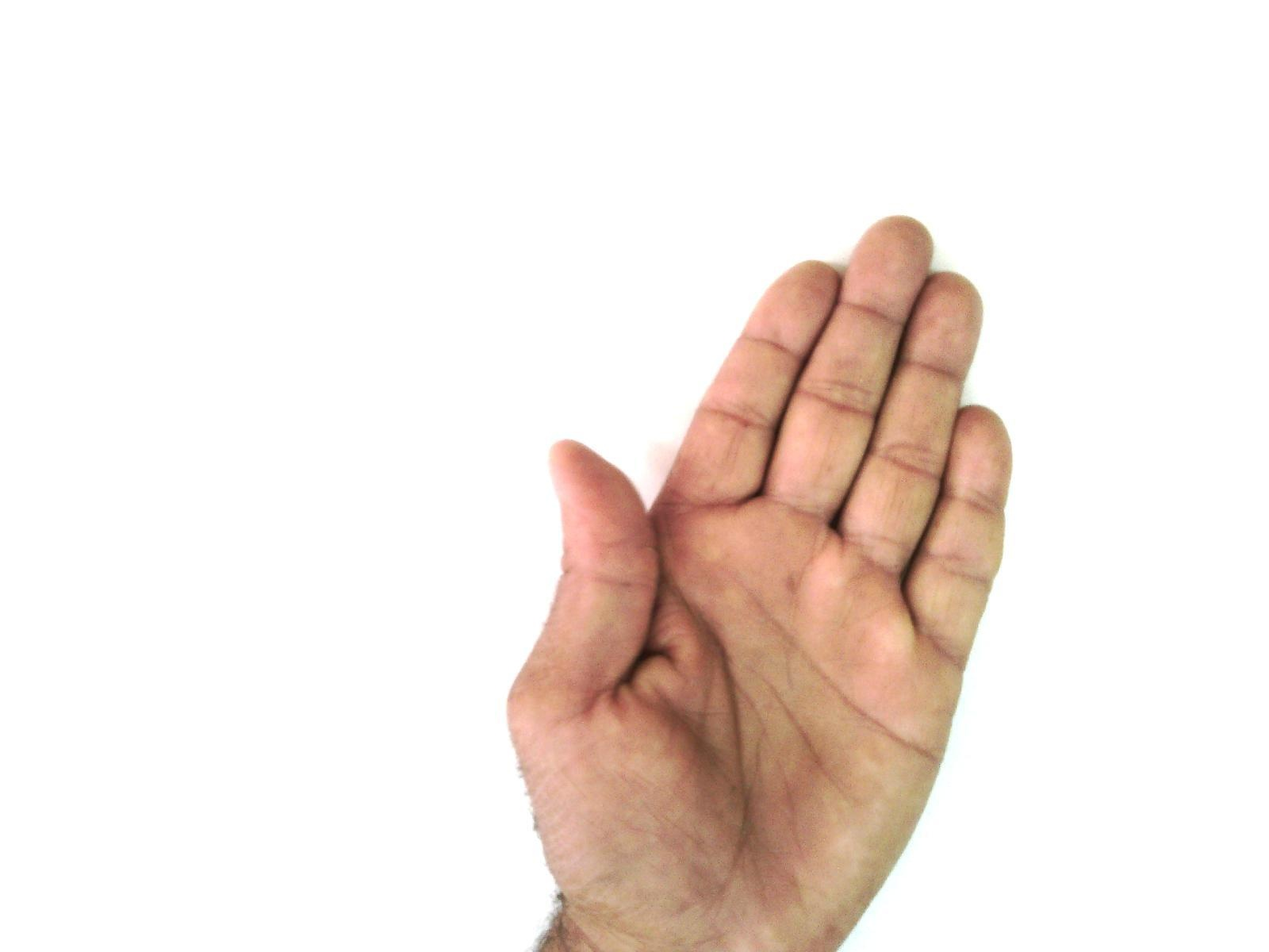open_palm: (504, 214, 1016, 951)
